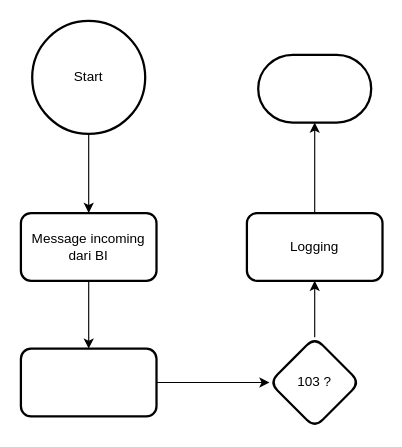
The diagram is 402 pixels wide and 447 high, and some of its shapes have lost their labels. Here are the shapes that lost their labels. From the top down, the centre of each, then its label:
(x=314, y=88): End
(x=88, y=382): Check tipe transaksi
